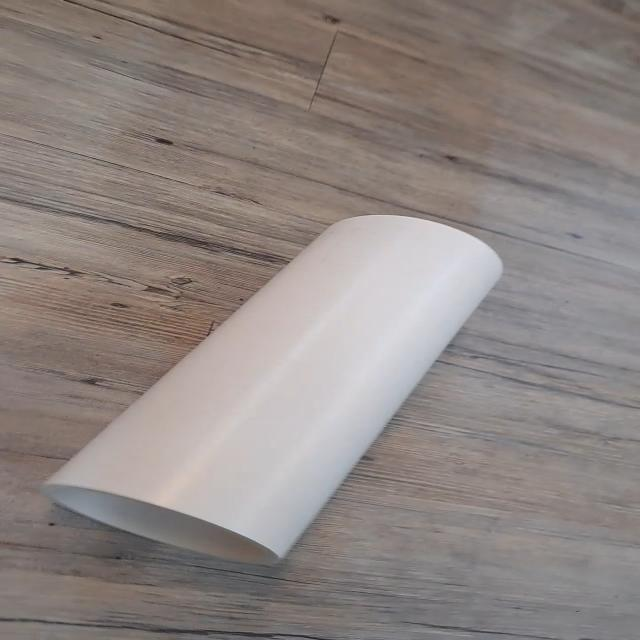CORAL: (15, 165, 575, 590)
